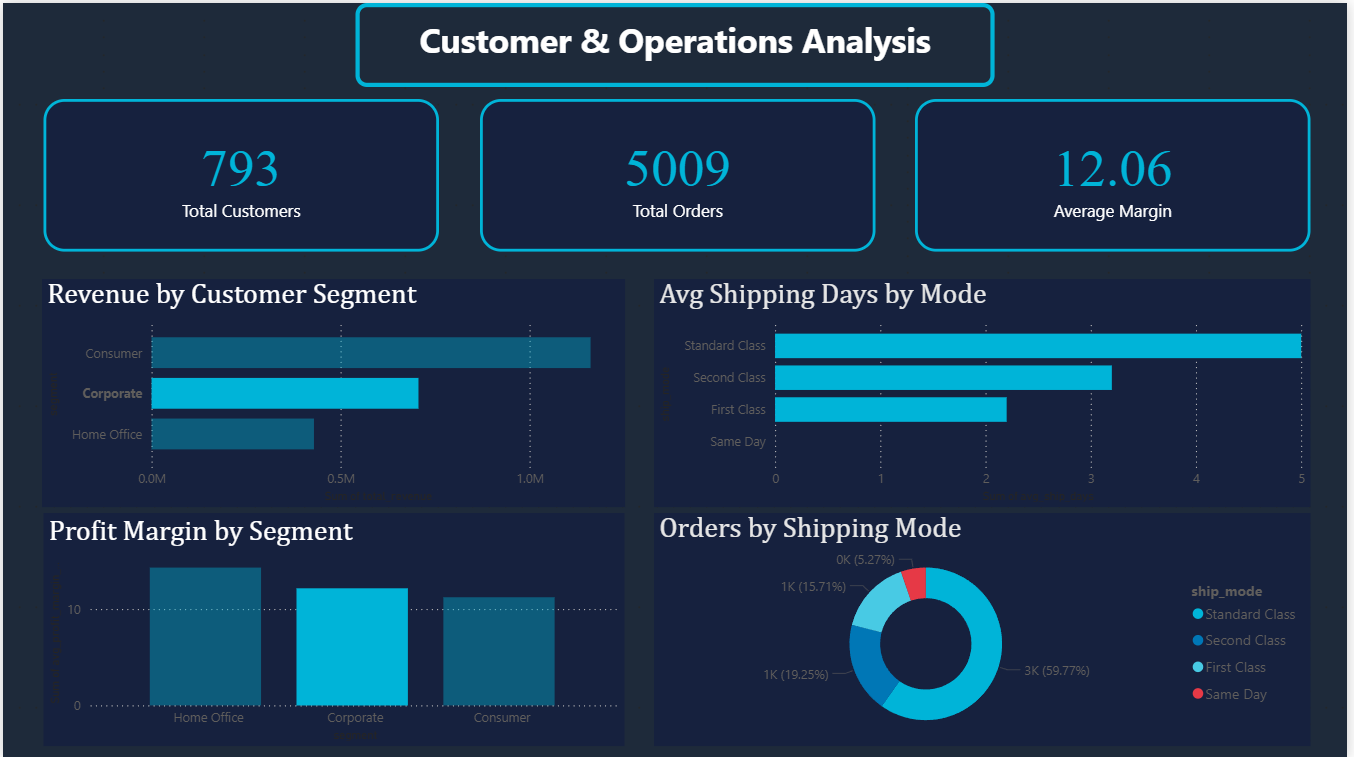

The page's visual inventory and layout, read from the dashboard file:
{"tool":"powerbi","page":{"name":"Customer & Operations","canvas":[1280,720],"ordinal":2},"visuals":[{"type":"textbox","box":[335.7,0,608.6,80],"z":0},{"type":"clusteredBarChart","title":"Revenue by Customer Segment ","fields":{"Category":["public vw_customer_segment.segment"],"Y":["Sum(public vw_customer_segment.total_revenue)"]},"box":[36.7,263.3,555,217],"z":0,"group":"g1"},{"type":"group","id":"g1","title":"Group 1","box":[36.7,263.3,1208.3,445],"z":1000},{"type":"clusteredBarChart","title":"Avg Shipping Days by Mode","fields":{"Category":["public vw_shipping_analysis.ship_mode"],"Y":["Sum(public vw_shipping_analysis.avg_ship_days)"]},"box":[620,263.3,625,217],"z":1000,"group":"g1"},{"type":"card","fields":{"Values":["Sum(public vw_business_summary.total_customers)"]},"box":[38.3,91.7,376.7,145],"z":2000,"group":"g2"},{"type":"donutChart","title":"Orders by Shipping Mode ","fields":{"Category":["public vw_shipping_analysis.ship_mode"],"Y":["Sum(public vw_shipping_analysis.total_orders)"]},"box":[620,486.4,625,221.9],"z":2000,"group":"g1"},{"type":"card","fields":{"Values":["Sum(public vw_business_summary.total_orders)"]},"box":[453.3,91.7,376.7,145],"z":3000,"group":"g2"},{"type":"clusteredColumnChart","title":"Profit Margin by Segment","fields":{"Y":["Sum(public vw_customer_segment.avg_profit_margin_pct)"],"Category":["public vw_customer_segment.segment"]},"box":[38.5,486.4,553.2,221.9],"z":3000,"group":"g1"},{"type":"card","fields":{"Values":["Sum(public vw_business_summary.avg_profit_margin_pct)"]},"box":[868.3,91.7,376.7,145],"z":4000,"group":"g2"},{"type":"group","id":"g2","title":"Group 2","box":[38.3,91.7,1206.7,145],"z":4001}]}

Visuals, with their boxes in screenshot pixels (x1, y1, x2, y2), scaled from the page's 1280x720 canvas onto the 1354x757 screenshot:
textbox: left=355, top=0, right=999, bottom=84
"Revenue by Customer Segment " clusteredBarChart: left=39, top=277, right=626, bottom=505
"Group 1" group: left=39, top=277, right=1317, bottom=745
"Avg Shipping Days by Mode" clusteredBarChart: left=656, top=277, right=1317, bottom=505
card - Sum(public vw_business_summary.total_customers): left=41, top=96, right=439, bottom=249
"Orders by Shipping Mode " donutChart: left=656, top=511, right=1317, bottom=745
card - Sum(public vw_business_summary.total_orders): left=480, top=96, right=878, bottom=249
"Profit Margin by Segment" clusteredColumnChart: left=41, top=511, right=626, bottom=745
card - Sum(public vw_business_summary.avg_profit_margin_pct): left=918, top=96, right=1317, bottom=249
"Group 2" group: left=41, top=96, right=1317, bottom=249
